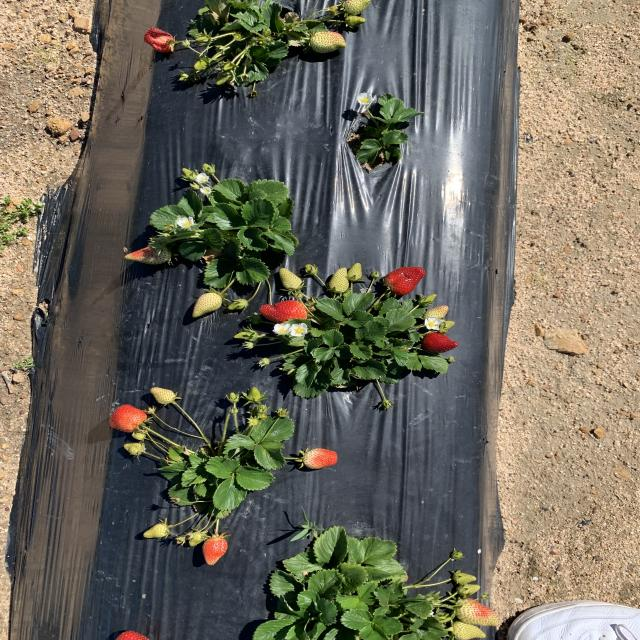unripe: (380, 265, 428, 294), (260, 300, 308, 325), (422, 329, 464, 356), (107, 404, 147, 431), (201, 534, 229, 566), (146, 27, 174, 52), (304, 448, 338, 468), (113, 628, 152, 640)
